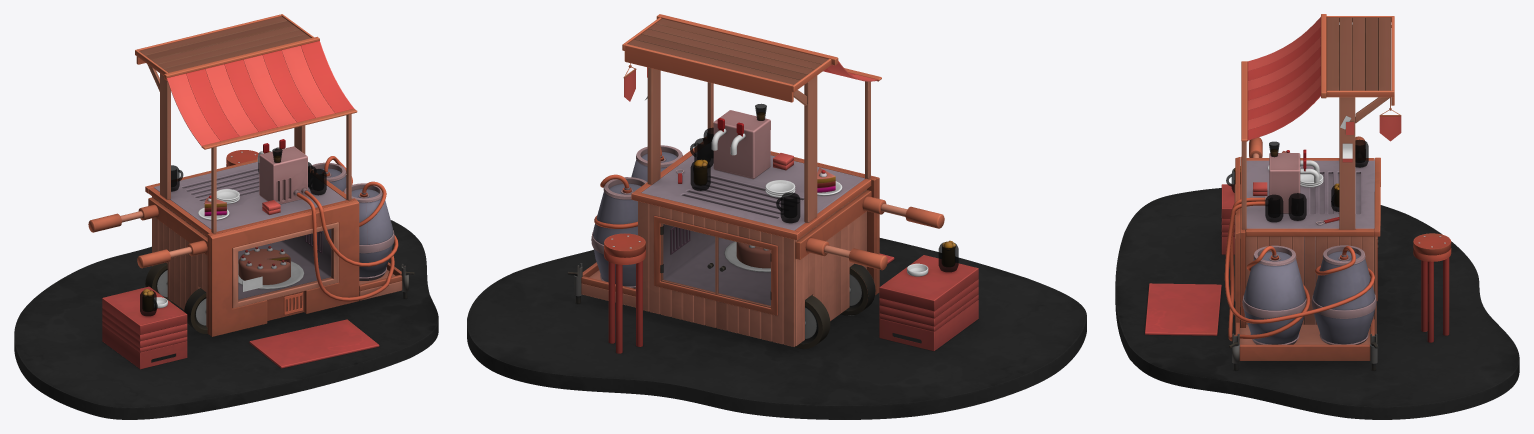
File: food_kiosk_props.glb
3 views of the same model, side by side, from view 1: azimuth 30°, elevation 25°; view 2: azimuth 150°, elevation 25°; view 3: azimuth 270°, elevation 25° (orthographic). The views are drawn at different scales.
Parts seen in each view (by area): view 1: Kiosk, Ground, Box, Rug, Barrel.001, Soda_machine, Cake.001, Hose.001, Hose, Barrel, Plate_big, Cake (+2 smaller); view 2: Ground, Kiosk, Box, Soda_machine, Door_left, Door_right, Chair, Barrel, Barrel.001, Cake.001, Mug.002; view 3: Ground, Kiosk, Barrel, Barrel.001, Rug, Chair, Soda_machine, Hose, Hose.001, Box, Baner, Mug (+2 smaller).
Part boxes in pixels (<box>): Kiosk: <box>88,14,414,336</box>; Ground: <box>14,220,438,419</box>; Box: <box>102,286,187,369</box>; Rug: <box>249,319,379,368</box>; Barrel.001: <box>344,183,394,280</box>; Soda_machine: <box>257,139,308,204</box>; Cake.001: <box>238,246,290,284</box>; Hose.001: <box>296,181,394,301</box>; Hose: <box>304,156,398,266</box>; Barrel: <box>310,162,346,191</box>; Plate_big: <box>238,261,304,289</box>; Cake: <box>198,195,229,219</box>; Ground: <box>467,238,1086,419</box>; Kiosk: <box>567,14,944,348</box>; Box: <box>879,255,978,351</box>; Soda_machine: <box>711,110,770,178</box>; Door_left: <box>660,223,716,294</box>; Door_right: <box>716,236,771,307</box>; Chair: <box>604,233,645,353</box>; Barrel: <box>591,177,646,288</box>; Barrel.001: <box>631,145,682,181</box>; Cake.001: <box>736,242,770,268</box>; Mug.002: <box>776,192,800,223</box>; Ground: <box>1115,188,1519,419</box>; Kiosk: <box>1229,14,1394,370</box>; Barrel: <box>1311,245,1376,344</box>; Barrel.001: <box>1242,245,1306,344</box>; Rug: <box>1145,283,1221,335</box>; Chair: <box>1413,233,1451,342</box>; Soda_machine: <box>1265,149,1319,213</box>; Hose: <box>1224,201,1374,323</box>; Hose.001: <box>1228,197,1310,341</box>; Box: <box>1221,184,1234,254</box>; Baner: <box>1379,97,1401,141</box>; Mug: <box>1265,194,1283,222</box>.
Size of the model in its own units: 3.75 by 2.11 by 2.9.
Materials: 4 (2 with a texture image).
